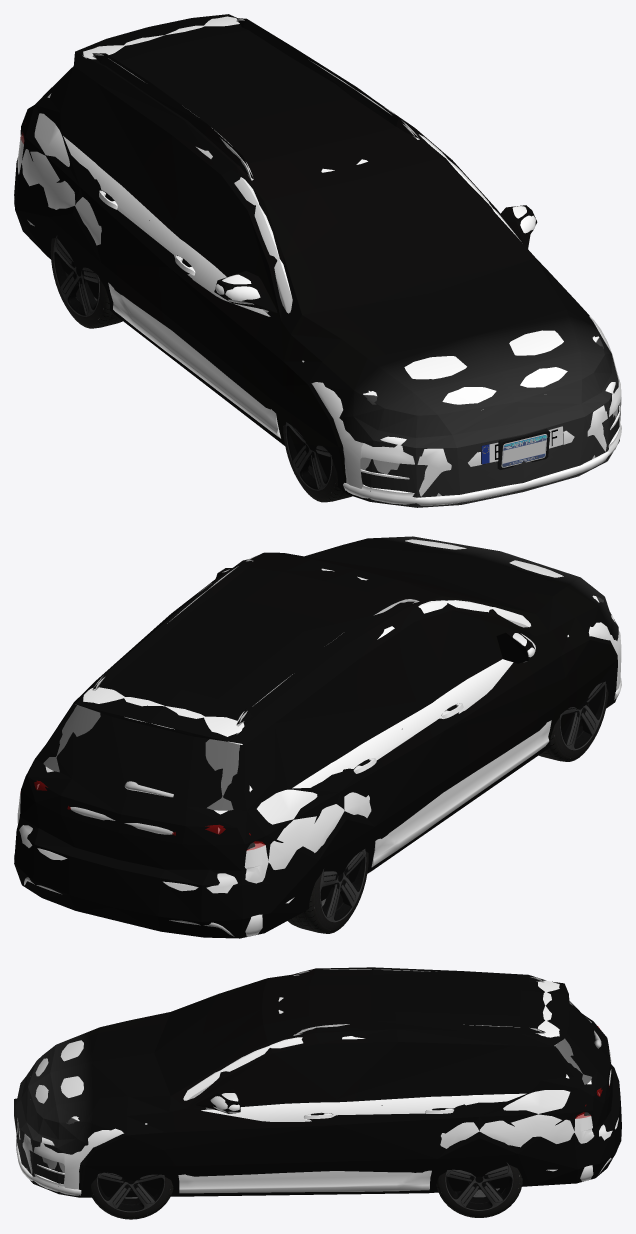
Rendered from CivilianVehicle02.FBX.
3 renders of one model, top to bottom at view 1: azimuth 30°, elevation 25°; view 2: azimuth 150°, elevation 25°; view 3: azimuth 270°, elevation 25°, orthographic. The views are drawn at different scales.
Visible parts, largest first — view 1: CivilianVehicle02_Col, Paint_LOD0, WheelRearRight_LOD0, WheelFrontRight_LOD0, PlateFrontTypeUSA_LOD0, Body_LOD0, PlateFrontTypeEU_LOD0; view 2: CivilianVehicle02_Col, Paint_LOD0, WheelRearRight_LOD0, Windows_LOD0, WheelFrontRight_LOD0, Body_LOD0; view 3: CivilianVehicle02_Col, Paint_LOD0, WheelRearLeft_LOD0, WheelFrontLeft_LOD0, Body_LOD0, Windows_LOD0.
Boxes of the visible parts, x1,y1,x2,y2 form: CivilianVehicle02_Col: (14,14,619,507); Paint_LOD0: (14,16,621,505); WheelRearRight_LOD0: (50,235,122,328); WheelFrontRight_LOD0: (283,422,352,502); PlateFrontTypeUSA_LOD0: (497,428,550,469); Body_LOD0: (92,18,618,496); PlateFrontTypeEU_LOD0: (481,425,563,464); CivilianVehicle02_Col: (14,536,618,938); Paint_LOD0: (14,539,621,936); WheelRearRight_LOD0: (288,849,368,933); Windows_LOD0: (43,705,239,810); WheelFrontRight_LOD0: (539,681,608,761); Body_LOD0: (24,559,529,936); CivilianVehicle02_Col: (15,967,621,1197); Paint_LOD0: (16,974,618,1195); WheelRearLeft_LOD0: (436,1162,522,1217); WheelFrontLeft_LOD0: (91,1172,173,1219); Body_LOD0: (26,969,617,1174); Windows_LOD0: (555,1001,591,1084).
Size of what is drawn, in the model's own units: 203 by 149 by 461.
